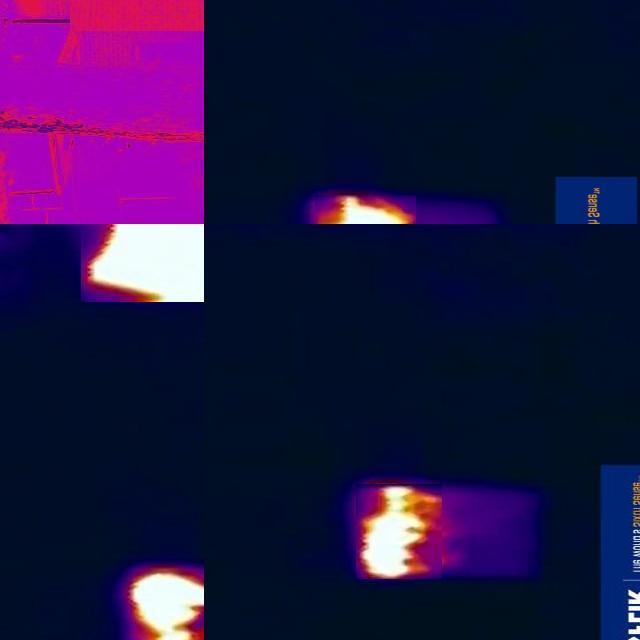fire: (82, 225, 205, 302), (357, 484, 443, 579), (123, 569, 214, 640), (316, 195, 417, 225)
